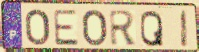E: (52, 8, 81, 47)
I: (180, 9, 189, 49)
O: (24, 8, 51, 47), (81, 9, 108, 48)
Q: (140, 10, 165, 49)
R: (108, 9, 138, 48)
